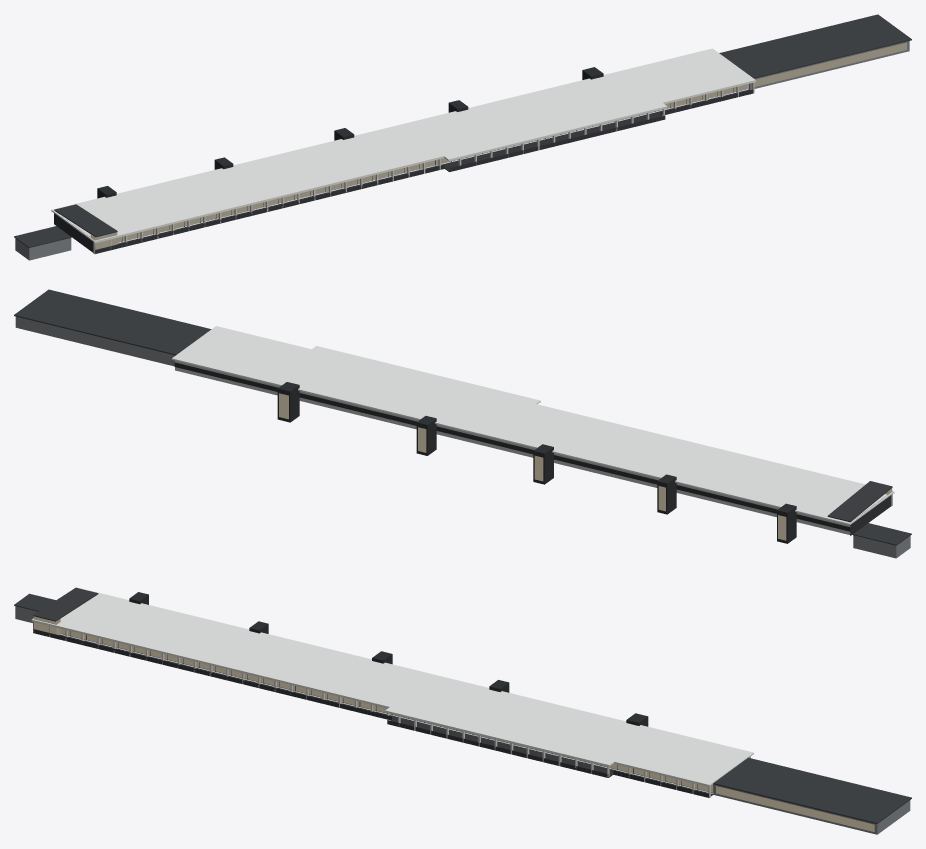
The model's file is spa_pit_upper.glb.
3 views of the same model, one above another, from view 1: azimuth 30°, elevation 25°; view 2: azimuth 150°, elevation 25°; view 3: azimuth 330°, elevation 25° (orthographic). The views are drawn at different scales.
Visible parts, largest first — view 1: spa-f1-pit-building; view 2: spa-f1-pit-building; view 3: spa-f1-pit-building.
Boxes of the visible parts, x1,y1,x2,y2 form: spa-f1-pit-building: (14, 14, 911, 260); spa-f1-pit-building: (14, 289, 911, 558); spa-f1-pit-building: (14, 587, 911, 834).
Size of the model in its own units: 313 by 11.05 by 34.74.
